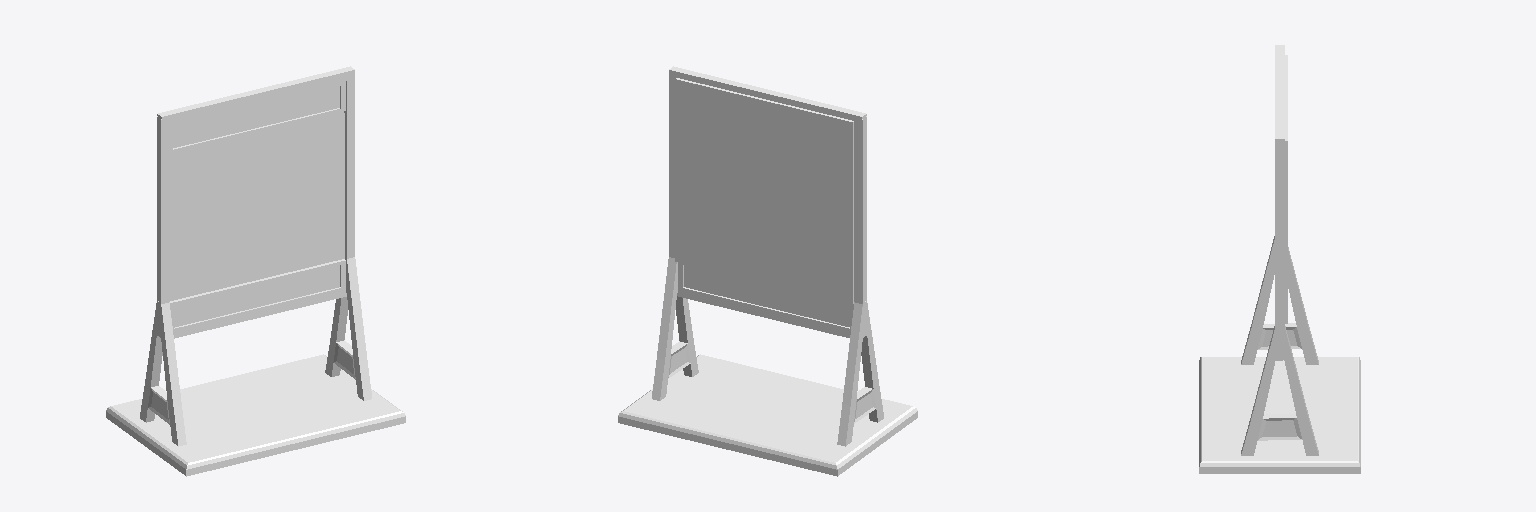
File: barrier_high.obj
3 renders of one model, left to right at view 1: azimuth 30°, elevation 25°; view 2: azimuth 150°, elevation 25°; view 3: azimuth 270°, elevation 25°, orthographic.
Parts seen in each view (by area): view 1: Cube.001_Cube.002, Cube_Cube.001, SM_Prop_Barrier_01_Mesh, Cube.004_Cube.006, SM_Prop_Barrier_01.001_Mesh.001, Cube.005_Cube.009, Cube.002_Cube.007, Cube.003_Cube.008; view 2: Cube.004_Cube.006, Cube.001_Cube.002, Cube_Cube.001, SM_Prop_Barrier_01_Mesh, Cube.002_Cube.007, Cube.005_Cube.009, Cube.003_Cube.008; view 3: Cube.001_Cube.002, SM_Prop_Barrier_01_Mesh, Cube.003_Cube.008, Cube.005_Cube.009, Cube.004_Cube.006.
Part boxes in pixels (x1,y1,x2,y2): Cube.001_Cube.002: (106,354,405,476); Cube_Cube.001: (170,178,344,300); SM_Prop_Barrier_01_Mesh: (140,257,371,446); Cube.004_Cube.006: (170,112,344,219); SM_Prop_Barrier_01.001_Mesh.001: (170,81,345,153); Cube.005_Cube.009: (157,66,354,123); Cube.002_Cube.007: (157,116,169,303); Cube.003_Cube.008: (345,72,354,258); Cube.004_Cube.006: (675,78,853,223); Cube.001_Cube.002: (618,354,917,476); Cube_Cube.001: (675,181,853,304); SM_Prop_Barrier_01_Mesh: (652,257,883,446); Cube.002_Cube.007: (854,116,866,303); Cube.005_Cube.009: (669,66,866,120); Cube.003_Cube.008: (669,73,674,257); Cube.001_Cube.002: (1199,357,1360,473); SM_Prop_Barrier_01_Mesh: (1241,236,1318,455); Cube.003_Cube.008: (1275,141,1284,325); Cube.005_Cube.009: (1275,45,1284,140); Cube.004_Cube.006: (1285,55,1287,241).
Size of the model in its own units: 0.0216 by 0.0309 by 0.0137.